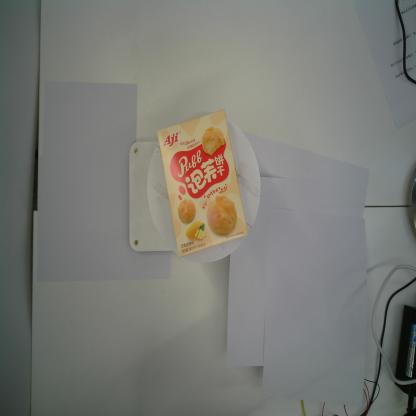Dessert: (157, 108, 248, 258)
